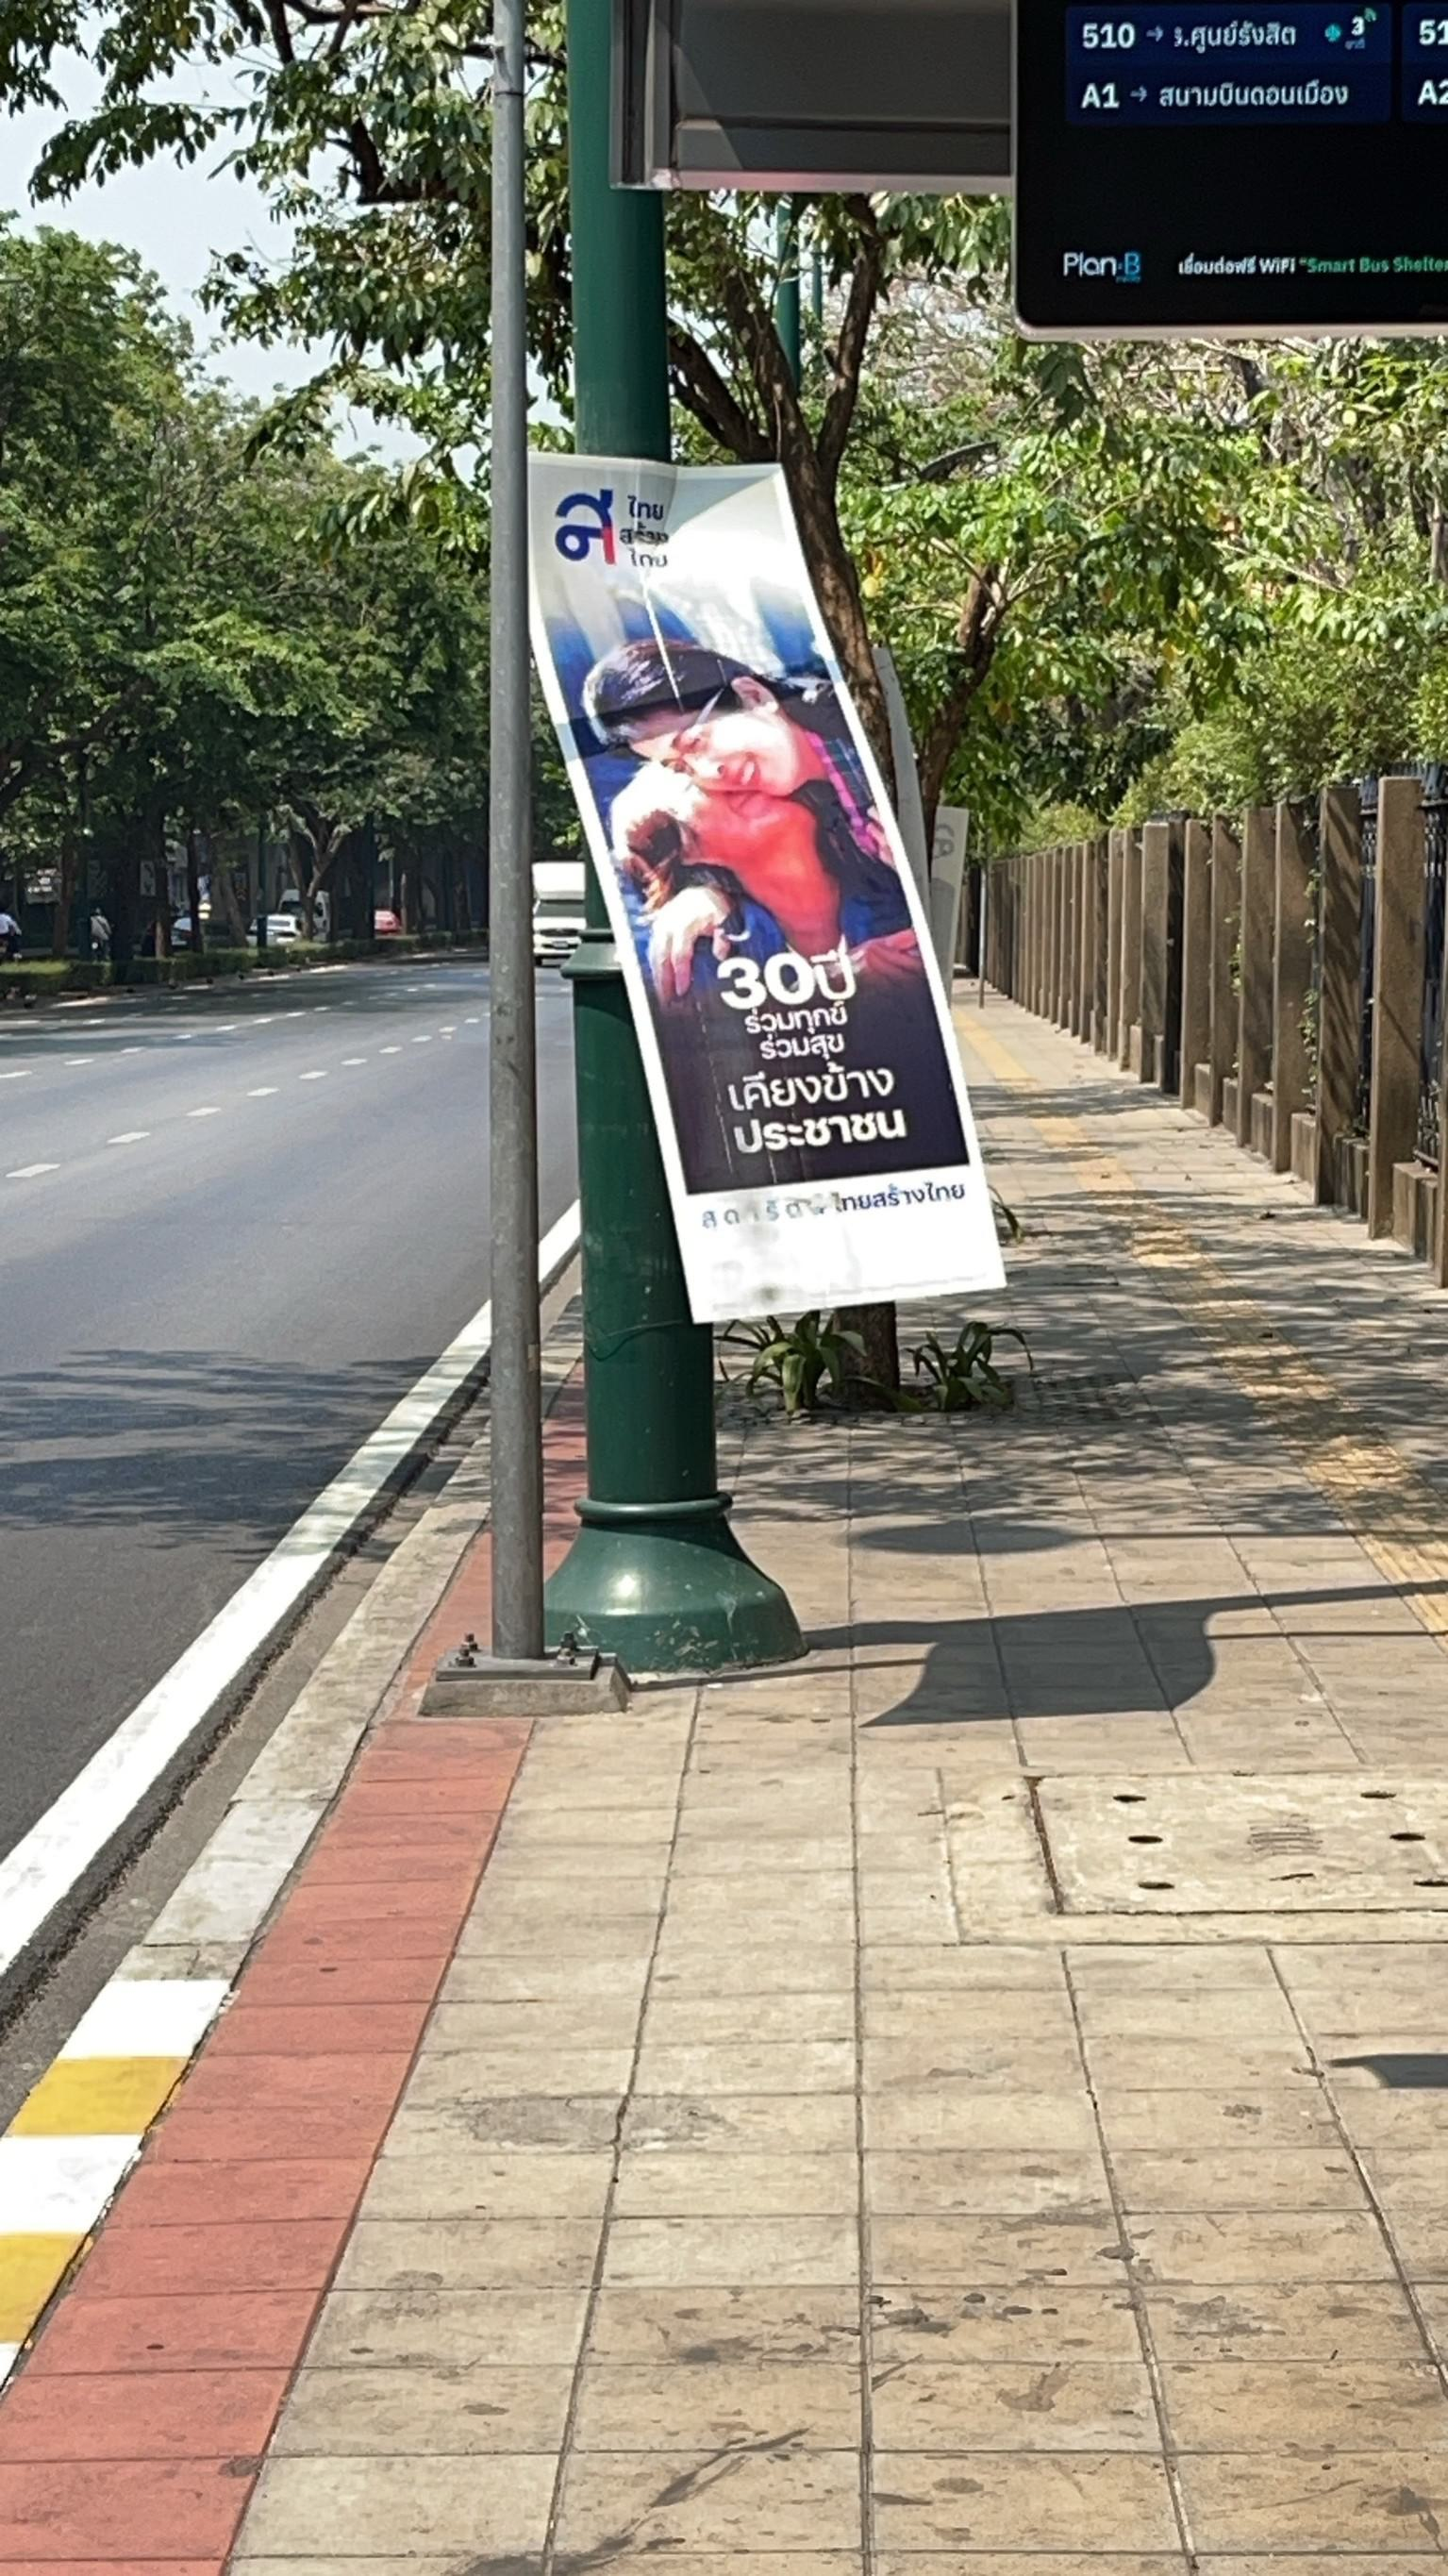Banner: (518, 442, 1010, 1322)
